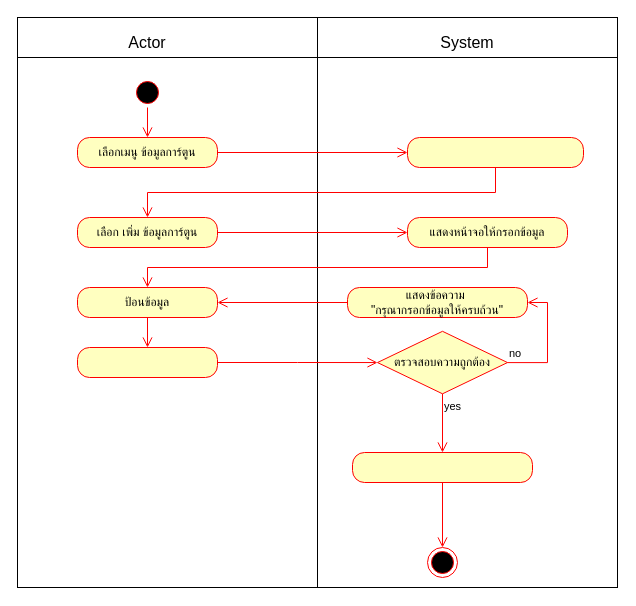
The diagram is 636 pixels wide and 606 high, and some of its shapes have lost their labels. The box of each missing label's shape, as (x1, y1, x2, y2) in pixels:
กดปุ่ม บันทึก: (76, 346, 218, 378)
แสดงข้อความ "เพิ่มการ์ตูนสำเร็จ": (352, 452, 532, 482)
แสดงหน้าจอ ข้อมูลการ์ตูนทั้งหมด: (406, 136, 584, 168)
